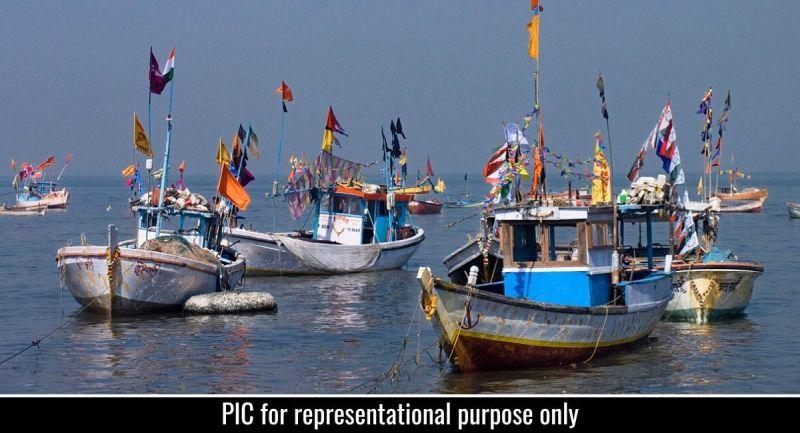fishing boat: (53, 52, 254, 315), (413, 192, 680, 369), (214, 102, 429, 274), (0, 151, 79, 218), (704, 149, 771, 212), (444, 165, 486, 212), (405, 184, 445, 218)
